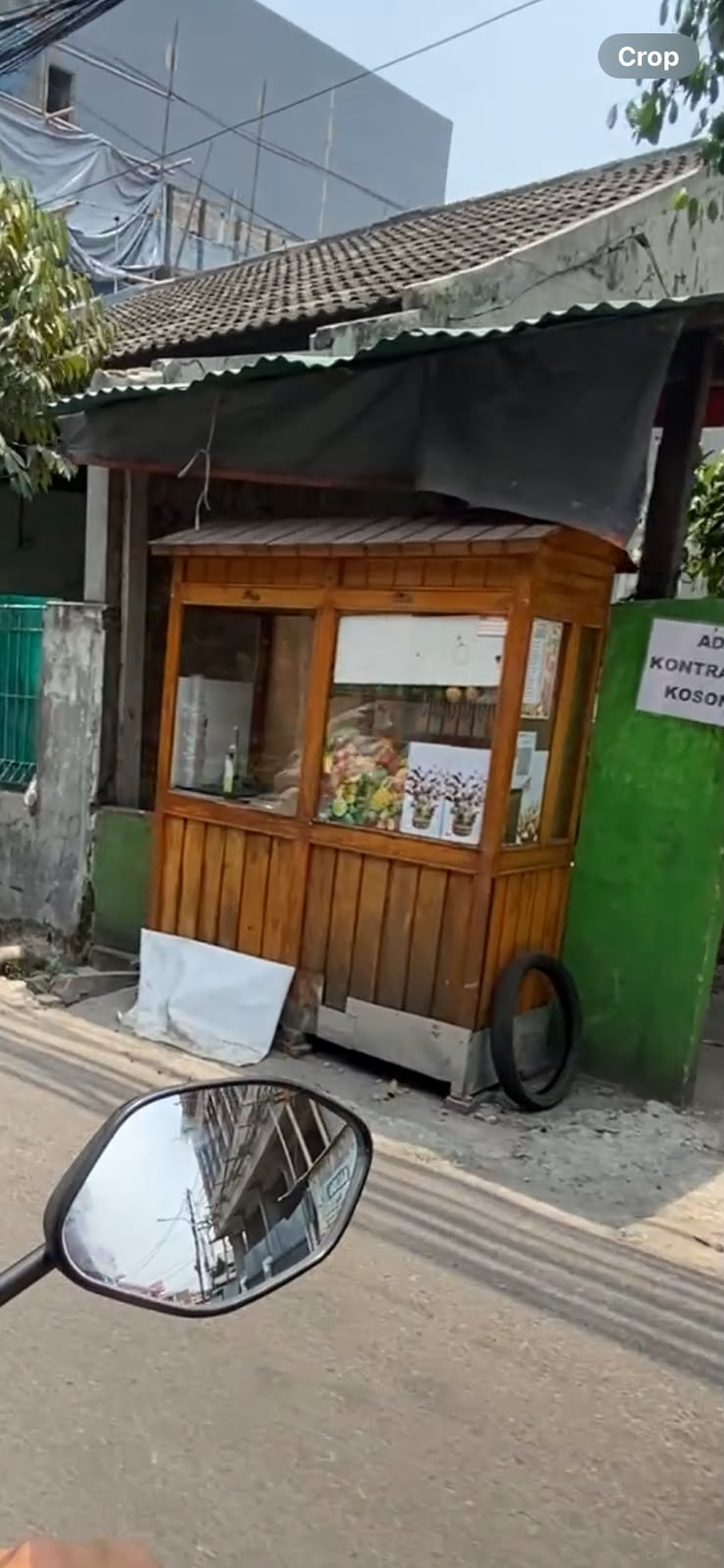gerobak: (127, 503, 627, 1109)
